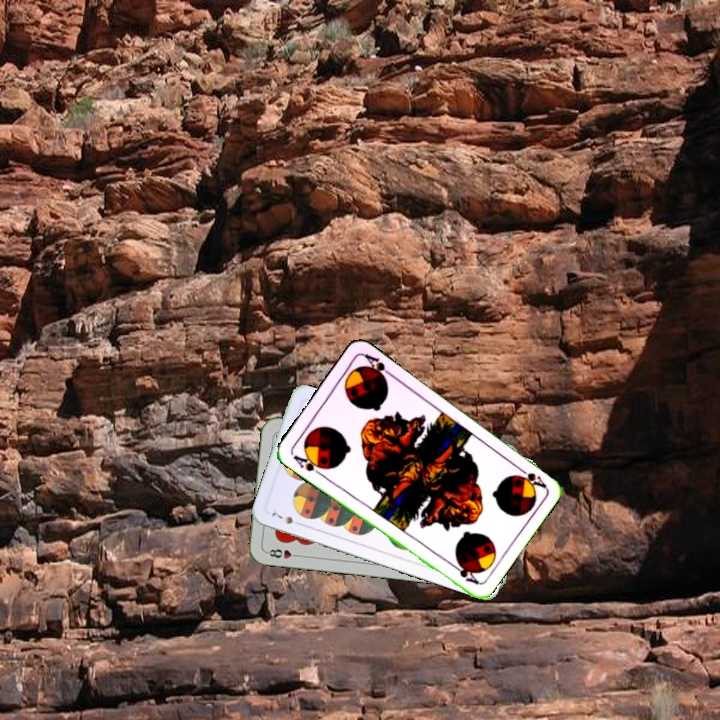H8: (262, 545, 303, 561)
S7: (267, 508, 305, 528)
SA: (289, 450, 328, 478), (512, 462, 549, 490)
